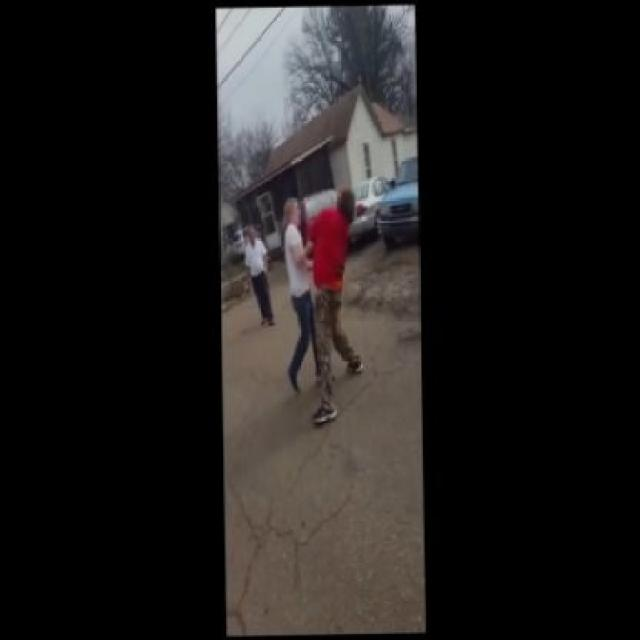fight: (283, 182, 366, 432)
non-fight: (234, 223, 278, 328)
